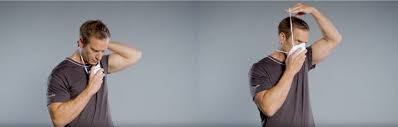mask_weared_incorrect: (88, 41, 107, 70)
with_mask: (288, 35, 310, 58)
